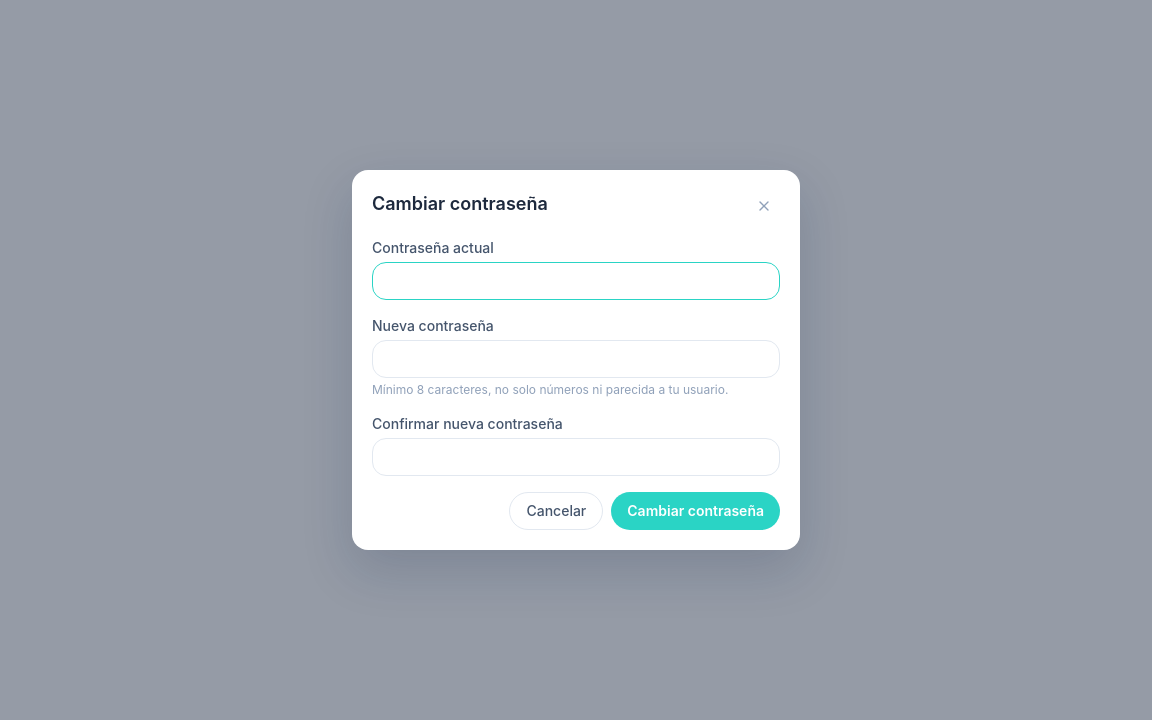
Test: ChangePasswordModal › muestra el error del backend bajo la contraseña actual
Type "mala" into the password field labelled "Contraseña actual". click: (576, 281)
box: [372, 262, 780, 300]
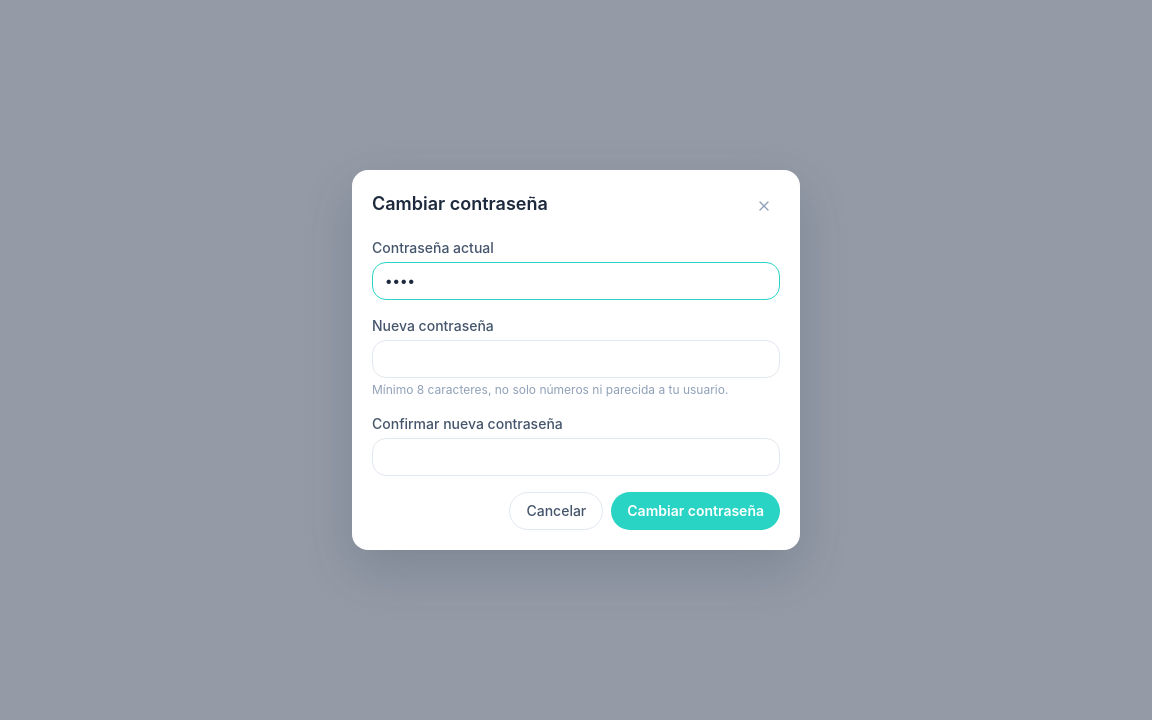
Type "NuevaClave2026!" into the password field labelled "Nueva contraseña". click: (576, 359)
box: [372, 340, 780, 378]
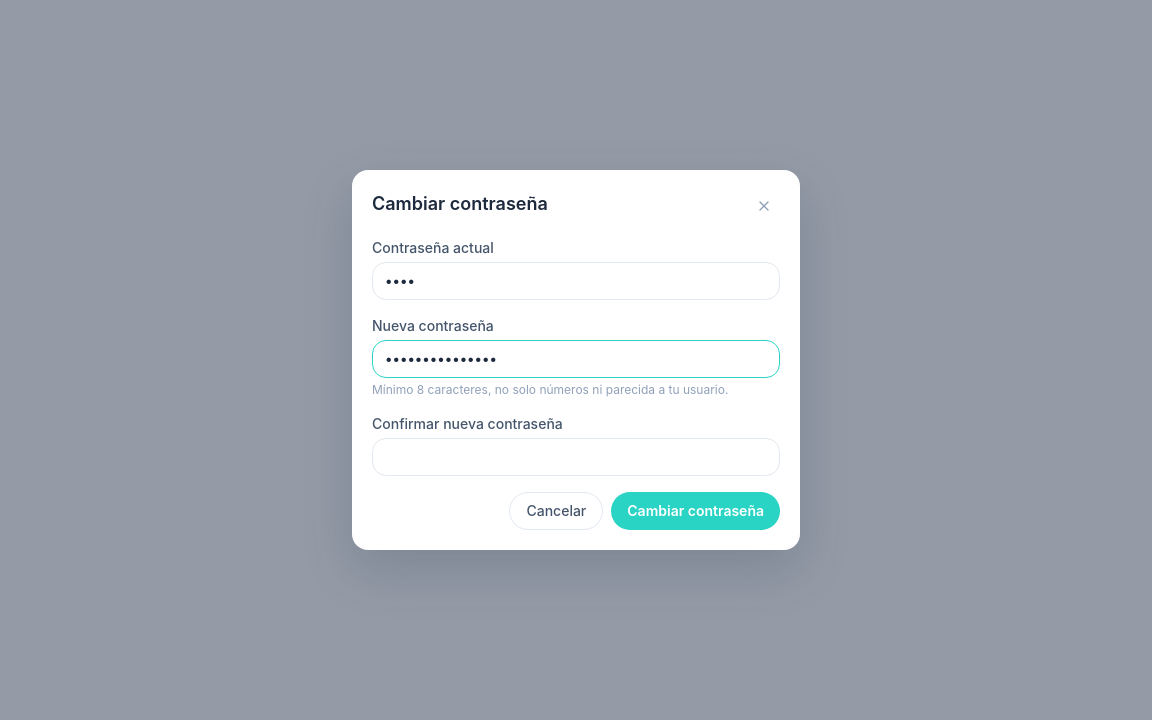
Type "NuevaClave2026!" into the password field labelled "Confirmar nueva contraseña". click: (576, 457)
box: [372, 438, 780, 476]
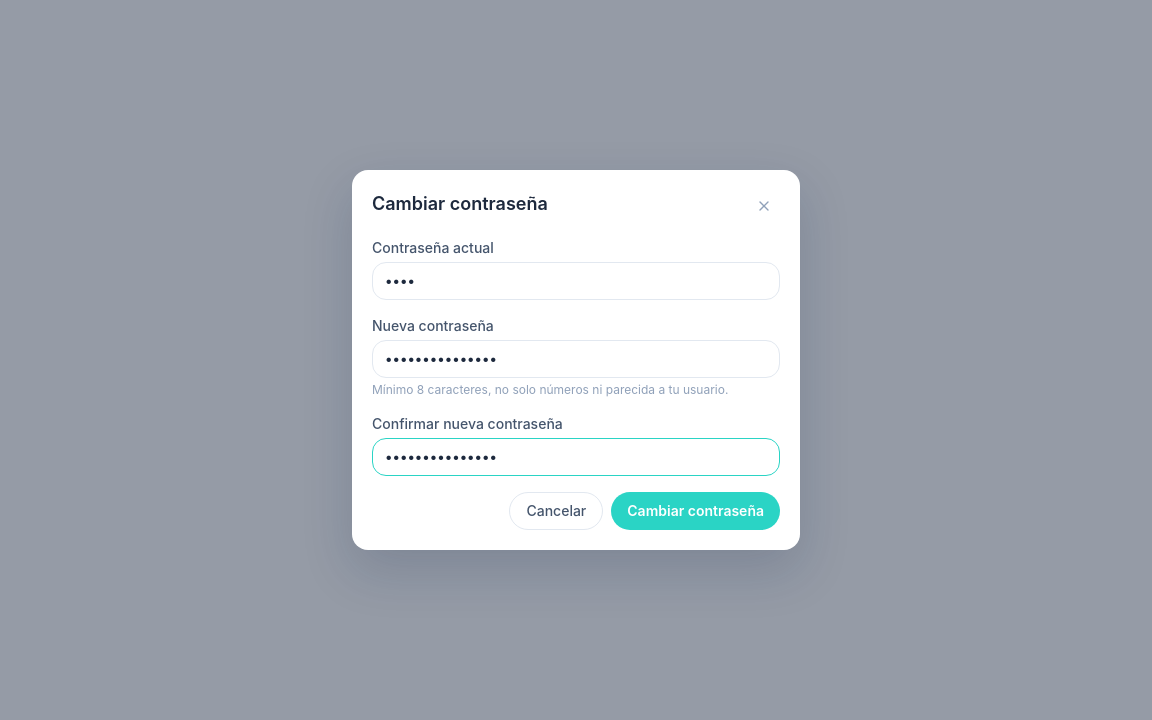
Click the button "Cambiar contraseña". click: click(696, 511)
box: [611, 492, 780, 530]
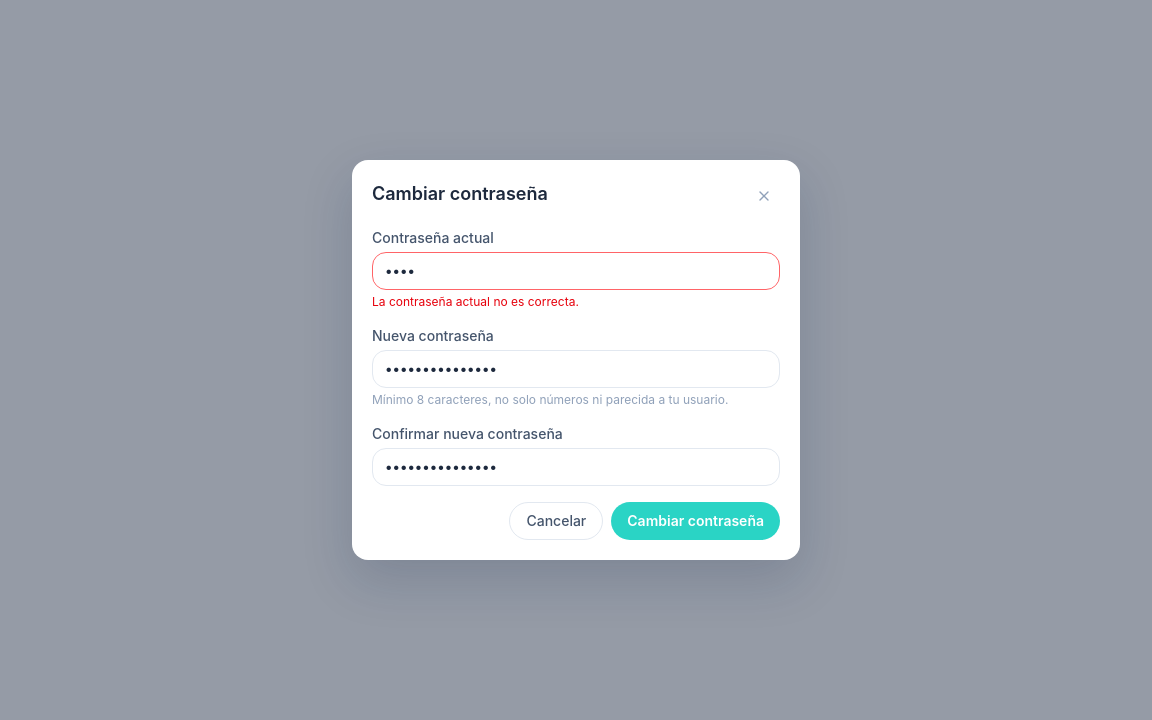
Result: the text "La contraseña actual no es correcta." is shown at [372, 294, 579, 309]
